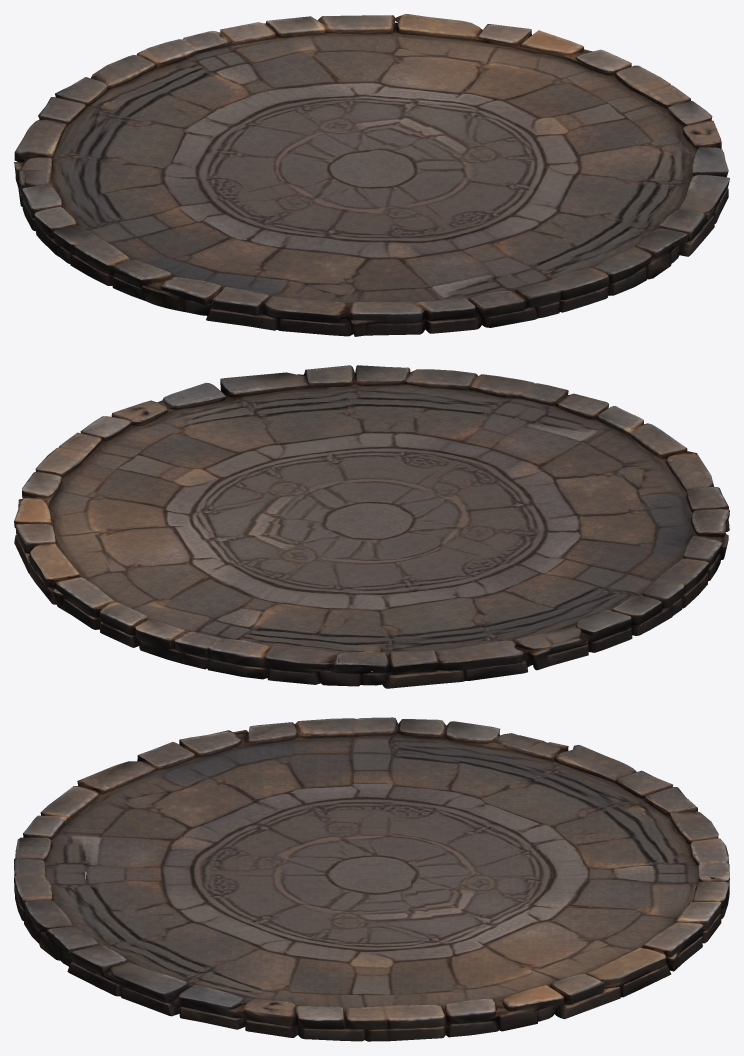
The model's file is ritual-platform-mobile.glb.
3 renders of one model, top to bottom at view 1: azimuth 30°, elevation 25°; view 2: azimuth 150°, elevation 25°; view 3: azimuth 270°, elevation 25°, orthographic.
Parts seen in each view (by area): view 1: ritual-platform; view 2: ritual-platform; view 3: ritual-platform.
Part boxes in pixels (<box>): ritual-platform: <box>14,14,729,336</box>; ritual-platform: <box>14,365,729,688</box>; ritual-platform: <box>14,717,729,1041</box>.
Size of the model in its own units: 11.1 by 0.4196 by 11.1.
1 material, 1 textured.
